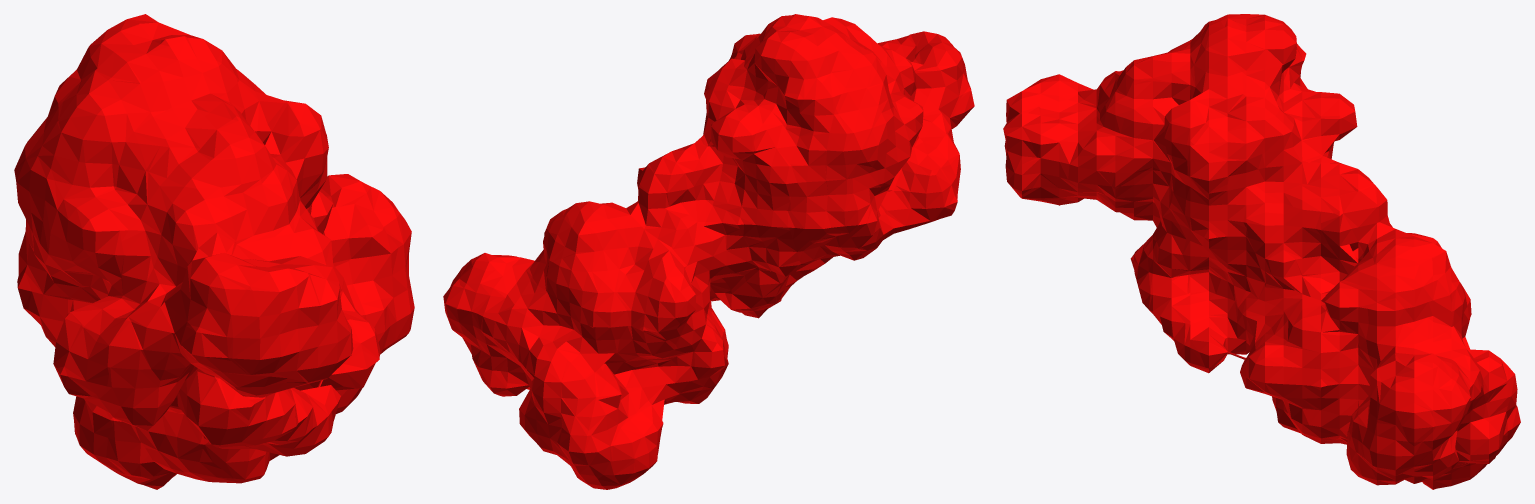
File: malK_coarse.dae
The picture shows the model from 3 angles, left to right: view 1: azimuth 30°, elevation 25°; view 2: azimuth 150°, elevation 25°; view 3: azimuth 270°, elevation 25°; orthographic projection. The views are drawn at different scales.
Parts seen in each view (by area): view 1: malK; view 2: malK; view 3: malK.
Boxes of the visible parts, left/top/right/bottom form: malK: left=14, top=14, right=414, bottom=489; malK: left=443, top=14, right=974, bottom=489; malK: left=1003, top=14, right=1520, bottom=489.
Size of the model in its own units: 124 by 132 by 146.
